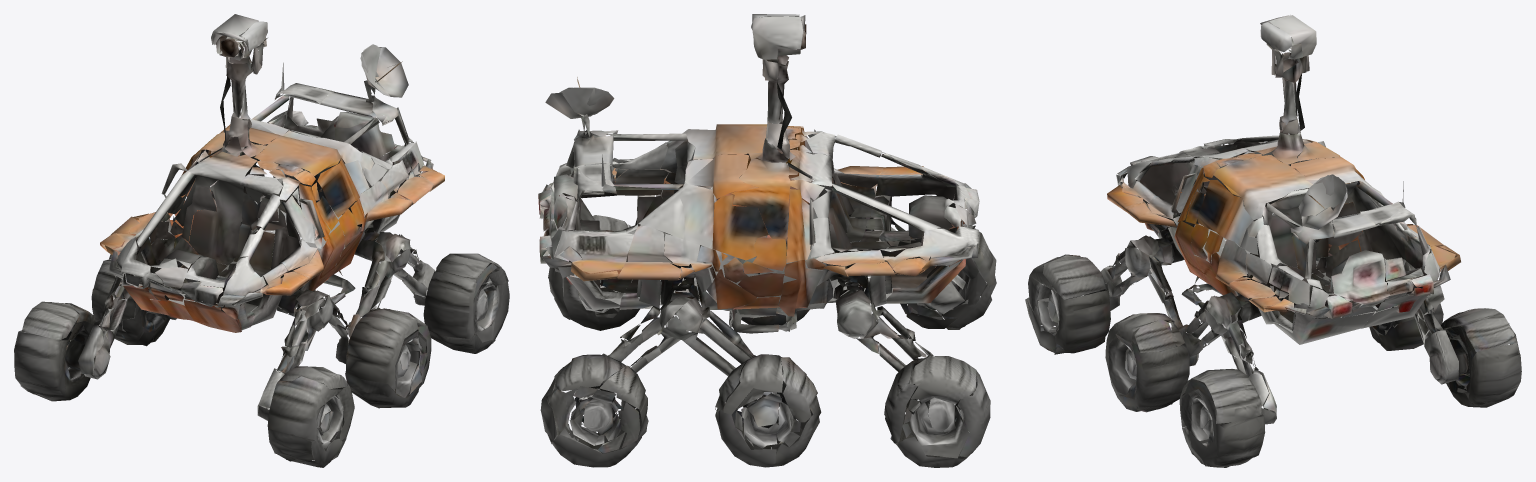
Rendered from mars_rover.glb.
3 views of the same model, side by side, from view 1: azimuth 30°, elevation 25°; view 2: azimuth 150°, elevation 25°; view 3: azimuth 270°, elevation 25° (orthographic). The views are drawn at different scales.
Visible parts, largest first — view 1: mars_rover; view 2: mars_rover; view 3: mars_rover.
Part boxes in pixels (box(x1,y1,x2,y2)): mars_rover: box(14, 14, 509, 467); mars_rover: box(538, 14, 996, 467); mars_rover: box(1025, 15, 1521, 467).
Bounding box in the file's own units: 5.48 × 4.1 × 5.36.
1 material, 1 textured.
